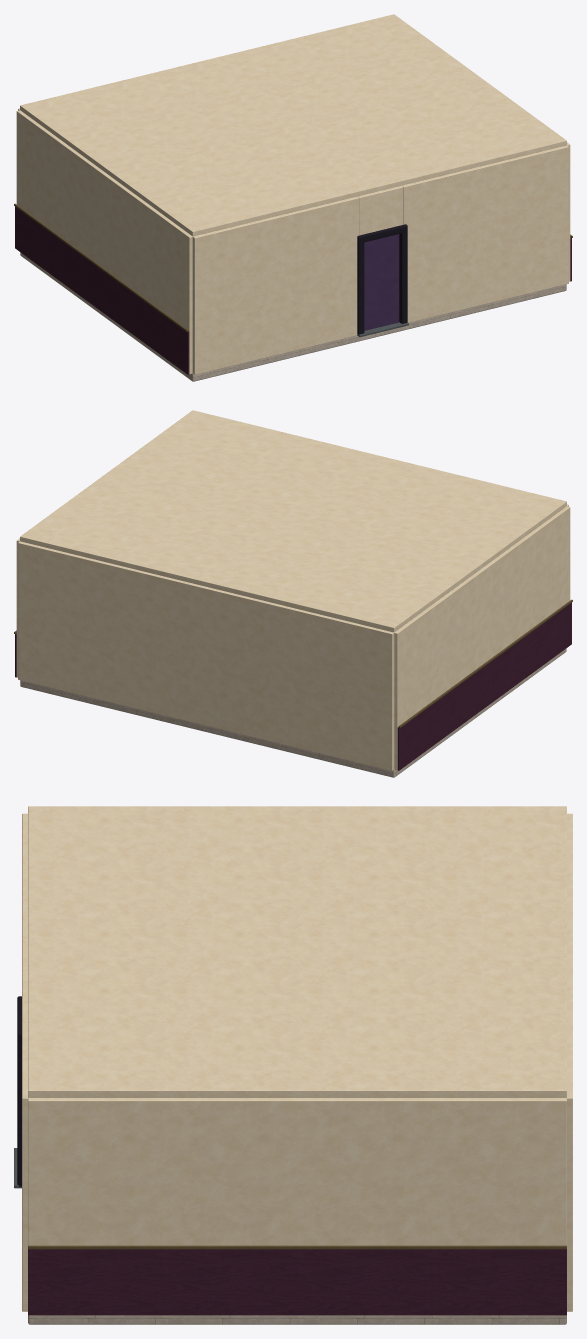
File: explore3d__refreshment_store.glb
3 renders of one model, top to bottom at view 1: azimuth 30°, elevation 25°; view 2: azimuth 150°, elevation 25°; view 3: azimuth 270°, elevation 25°, orthographic. The views are drawn at different scales.
Visible parts, largest first — view 1: ceiling.007, wall.017, wall.016, wall.019, lower_panel.018, refreshment_store_floor, front.016_leaf, door_lintel.003, front.016_jamb, front.016_jamb.001, panel_rail.018; view 2: ceiling.007, wall.018, wall.019, lower_panel.018, refreshment_store_floor, panel_rail.018; view 3: ceiling.007, wall.020, lower_panel.019, refreshment_store_floor, wall.018, panel_rail.019, wall.016, wall.017, front.016_jamb.
Boxes of the visible parts, bbox=[...] form: ceiling.007: bbox=[20, 14, 566, 236]; wall.017: bbox=[192, 196, 359, 374]; wall.016: bbox=[402, 145, 568, 322]; wall.019: bbox=[16, 110, 192, 374]; lower_panel.018: bbox=[15, 206, 189, 374]; refreshment_store_floor: bbox=[20, 252, 566, 381]; front.016_leaf: bbox=[364, 234, 399, 330]; door_lintel.003: bbox=[358, 185, 403, 235]; front.016_jamb: bbox=[399, 229, 407, 323]; front.016_jamb.001: bbox=[357, 240, 364, 334]; panel_rail.018: bbox=[14, 203, 188, 331]; ceiling.007: bbox=[20, 410, 566, 632]; wall.018: bbox=[18, 541, 394, 770]; wall.019: bbox=[394, 506, 570, 770]; lower_panel.018: bbox=[397, 602, 571, 770]; refreshment_store_floor: bbox=[20, 648, 566, 777]; panel_rail.018: bbox=[398, 599, 572, 727]; ceiling.007: bbox=[28, 806, 566, 1097]; wall.020: bbox=[28, 1098, 566, 1245]; lower_panel.019: bbox=[28, 1249, 566, 1315]; refreshment_store_floor: bbox=[28, 1315, 566, 1324]; wall.018: bbox=[567, 813, 572, 1311]; panel_rail.019: bbox=[28, 1245, 566, 1249]; wall.016: bbox=[22, 973, 28, 1311]; wall.017: bbox=[22, 813, 27, 939]; front.016_jamb: bbox=[17, 1040, 21, 1186].
Size of the model in its own units: 10.32 by 3.84 by 8.3.
12 materials, 11 textured.
